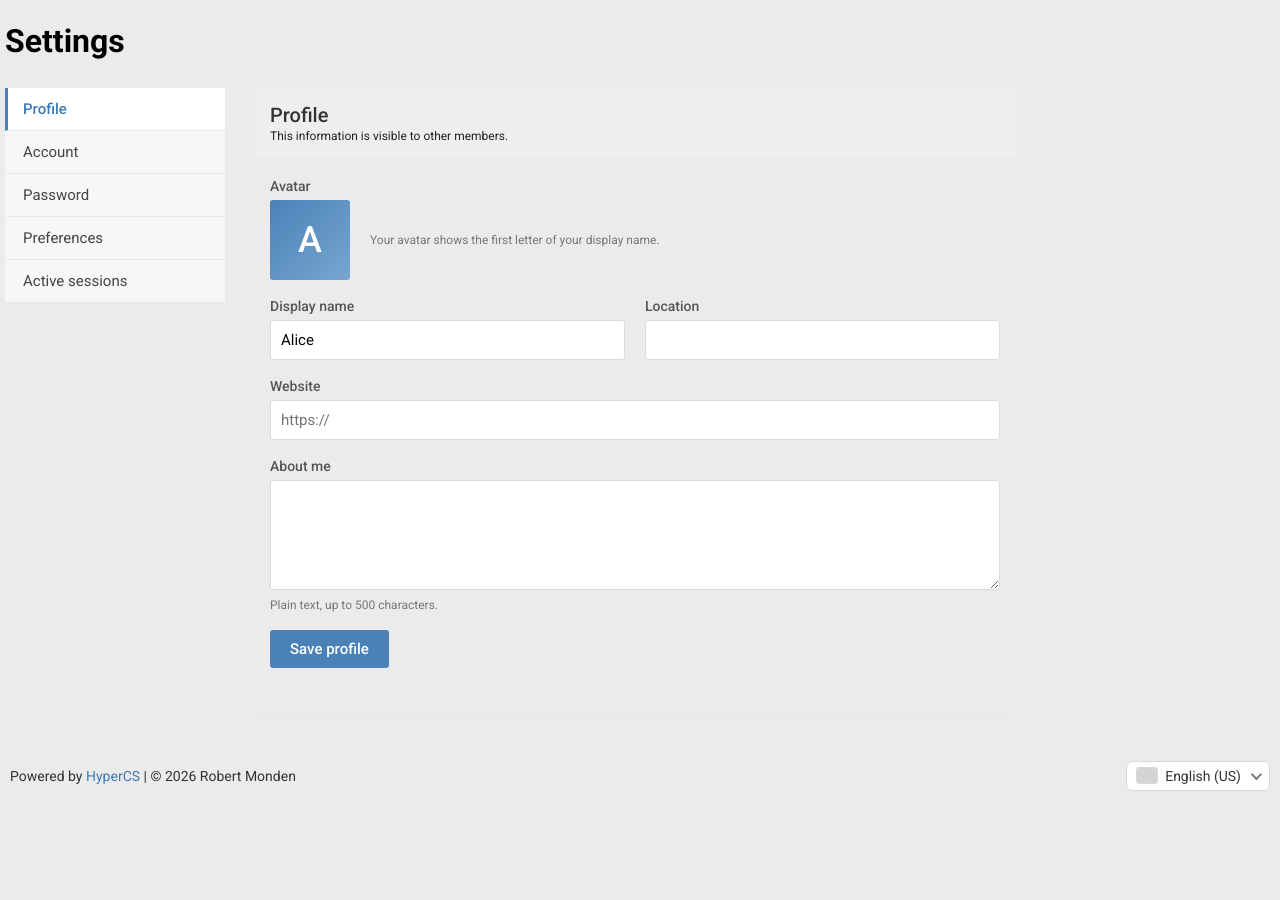
shows only the selected section
Expected: the field labelled "Display name" is shown, [270,320,625,360]
Expected: the field labelled "Language" is not shown
Click the link "Preferences" at (115, 238), box [5,217,225,260]
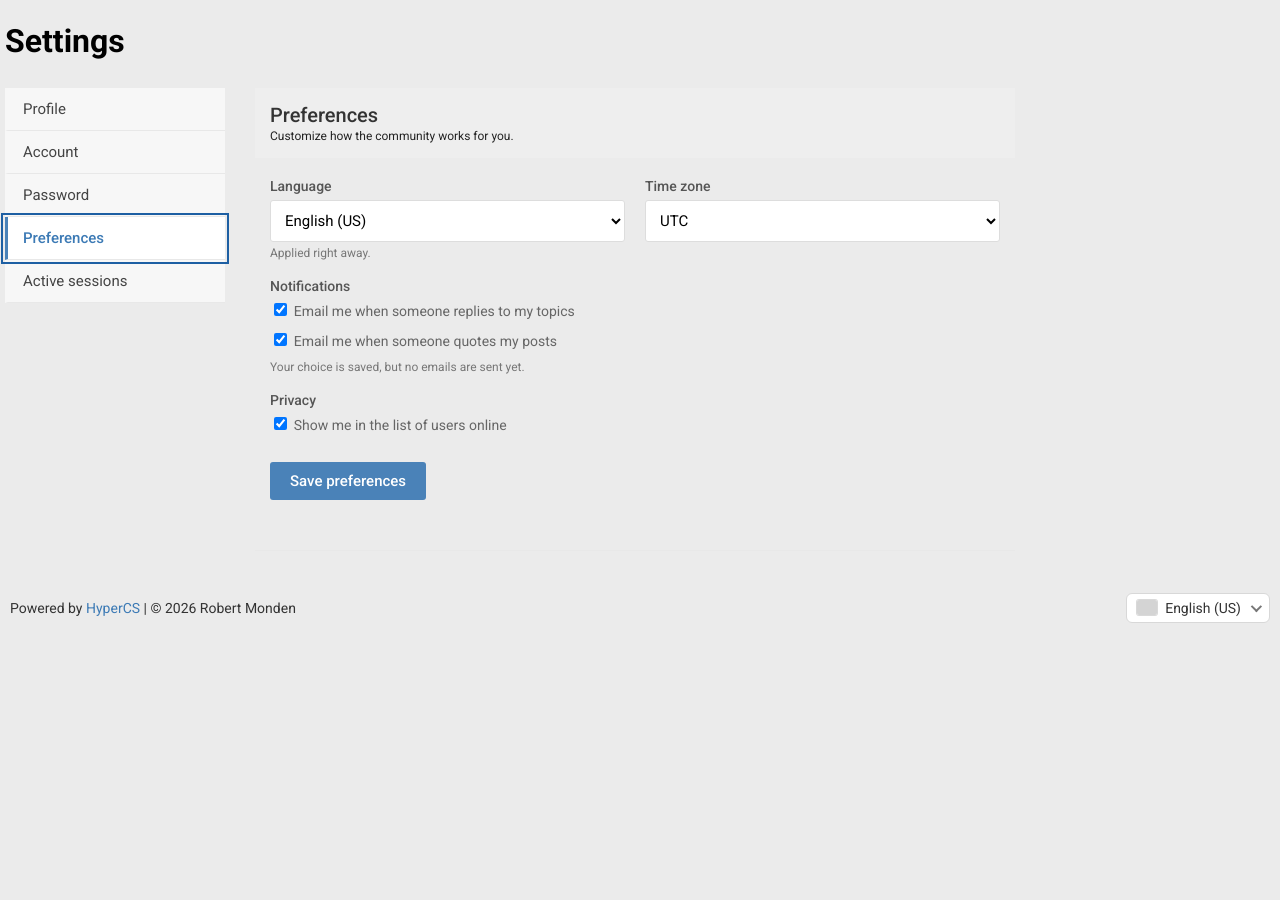
Expected: the dropdown labelled "Language" is shown, [270,200,625,242]
Expected: the text labelled "display name" is gone
